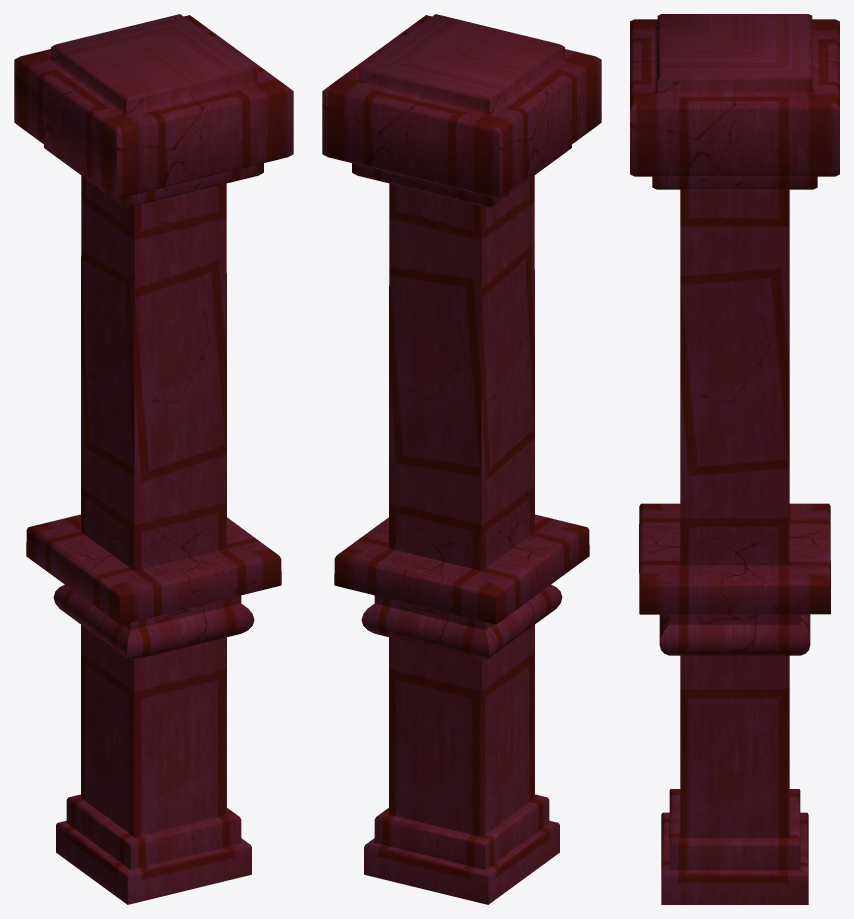
File: Pillar.fbx
3 renders of one model, left to right at view 1: azimuth 30°, elevation 25°; view 2: azimuth 150°, elevation 25°; view 3: azimuth 270°, elevation 25°, orthographic. The views are drawn at different scales.
Visible parts, largest first — view 1: Pillar.001; view 2: Pillar.001; view 3: Pillar.001.
Boxes of the visible parts, x1,y1,x2,y2 form: Pillar.001: (14,14,293,904); Pillar.001: (322,14,601,904); Pillar.001: (630,14,839,904).
Bounding box in the file's own units: 0.5971 × 2.6 × 0.5971.
